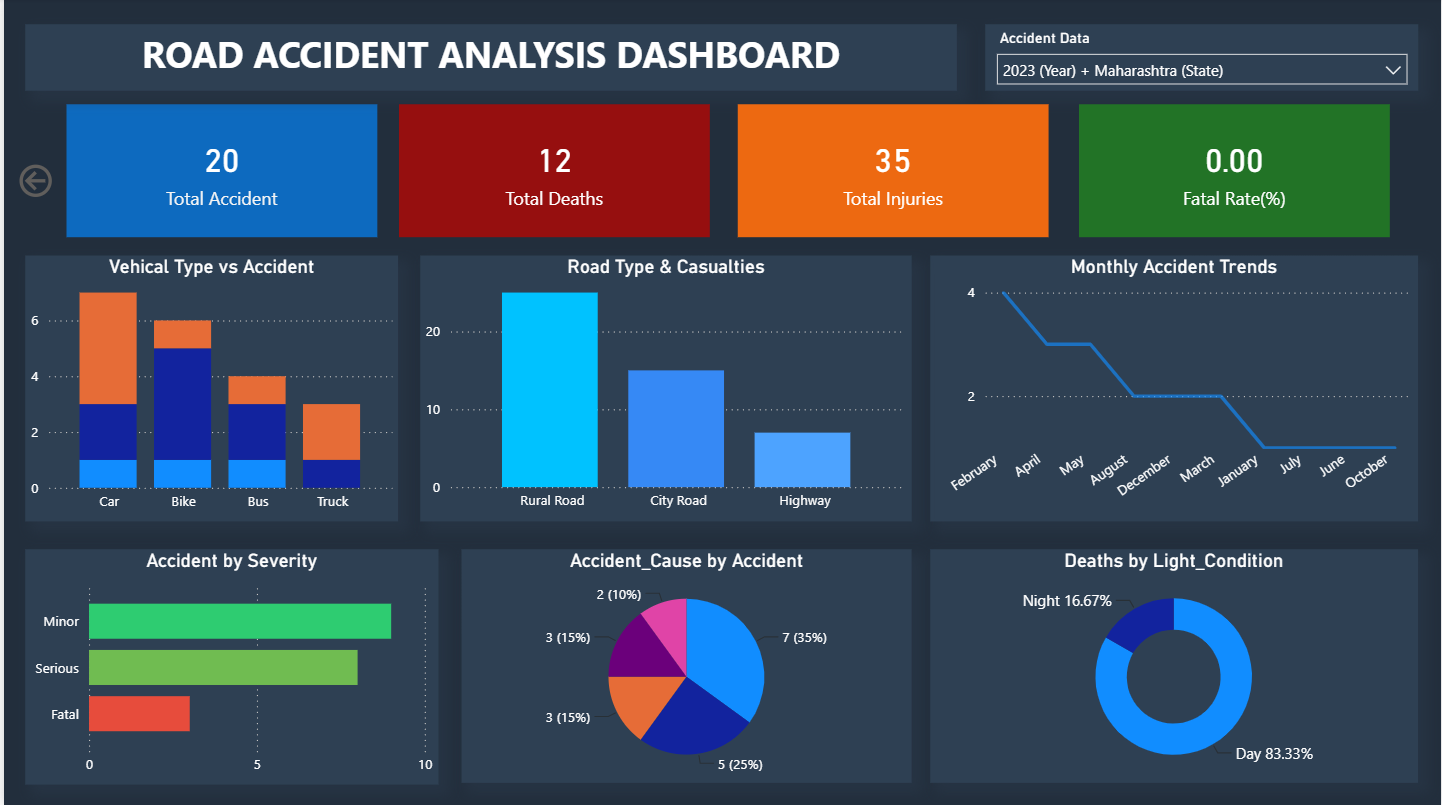

The dashboard page shown, as its layout file describes it:
{"tool":"powerbi","page":{"name":"Page 1","canvas":[1280,720],"ordinal":0},"visuals":[{"type":"card","fields":{"Values":["Road_Accident_Dataset.Total Accident"]},"box":[55.1,95.1,277,118.5],"z":0},{"type":"lineChart","title":"Monthly Accident Trends","fields":{"Category":["Road_Accident_Dataset.Month"],"Y":["CountNonNull(Road_Accident_Dataset.Accident_ID)"]},"box":[825.2,229.2,434.3,236.5],"z":1000},{"type":"barChart","title":"Accident by Severity","fields":{"Category":["Road_Accident_Dataset.Severity"],"Y":["Road_Accident_Dataset.Total Accident"]},"box":[19.3,490.6,368,209.5],"z":2000},{"type":"pieChart","title":" Accident_Cause by Accident","fields":{"Category":["Road_Accident_Dataset.Accident_Cause"],"Y":["Road_Accident_Dataset.Total Accident"]},"box":[407.9,490.6,401,208.1],"z":3000},{"type":"columnChart","title":"Road Type & Casualties","fields":{"Category":["Road_Accident_Dataset.Road_Type"],"Y":["Sum(Road_Accident_Dataset.Casualties)"]},"box":[370.4,229.2,437.9,236.5],"z":4000},{"type":"columnChart","title":"Vehical Type vs Accident ","fields":{"Category":["Road_Accident_Dataset.Vehicle_Type"],"Series":["Road_Accident_Dataset.Severity"],"Y":["CountNonNull(Road_Accident_Dataset.Accident_ID)"]},"box":[19.3,228.8,332.1,237],"z":5000},{"type":"slicer","fields":{"Values":["Road_Accident_Dataset.Year","Road_Accident_Dataset.State","Road_Accident_Dataset.Accident_Cause","Road_Accident_Dataset.Severity","Road_Accident_Dataset.Weather"]},"box":[873.7,23.4,385.9,59.3],"z":6000},{"type":"textbox","box":[19.3,23.4,829.6,59.3],"z":7000},{"type":"card","fields":{"Values":["Road_Accident_Dataset.Total Deaths"]},"box":[351.4,95.1,277,118.5],"z":8000},{"type":"card","fields":{"Values":["Road_Accident_Dataset.Total Injuries"]},"box":[653.2,95.1,277,118.5],"z":9000},{"type":"card","fields":{"Values":["Road_Accident_Dataset.Fatal Rate(%)"]},"box":[957.8,95.1,277,118.5],"z":10000},{"type":"donutChart","title":"Deaths by Light_Condition","fields":{"Category":["Road_Accident_Dataset.Light_Condition"],"Y":["Road_Accident_Dataset.Total Deaths"]},"box":[825,491,434,208],"z":11001},{"type":"actionButton","box":[8.4,135.1,38.6,55.5],"z":11002}]}

Visuals, with their boxes in screenshot pixels (x1, y1, x2, y2), scaled from the page's 1280x720 canvas onto the 1442x805 screenshot:
card - Road_Accident_Dataset.Total Accident: x1=62 y1=106 x2=374 y2=239
"Monthly Accident Trends" lineChart: x1=930 y1=256 x2=1419 y2=521
"Accident by Severity" barChart: x1=22 y1=549 x2=436 y2=783
" Accident_Cause by Accident" pieChart: x1=460 y1=549 x2=911 y2=781
"Road Type & Casualties" columnChart: x1=417 y1=256 x2=911 y2=521
"Vehical Type vs Accident " columnChart: x1=22 y1=256 x2=396 y2=521
slicer - Road_Accident_Dataset.Year x Road_Accident_Dataset.State: x1=984 y1=26 x2=1419 y2=92
textbox: x1=22 y1=26 x2=956 y2=92
card - Road_Accident_Dataset.Total Deaths: x1=396 y1=106 x2=708 y2=239
card - Road_Accident_Dataset.Total Injuries: x1=736 y1=106 x2=1048 y2=239
card - Road_Accident_Dataset.Fatal Rate(%): x1=1079 y1=106 x2=1391 y2=239
"Deaths by Light_Condition" donutChart: x1=929 y1=549 x2=1418 y2=782
actionButton: x1=9 y1=151 x2=53 y2=213
